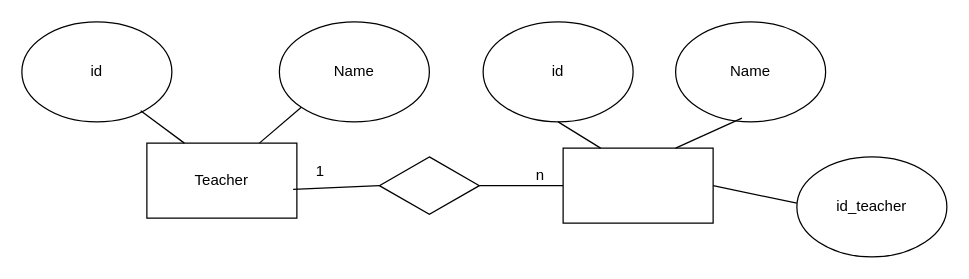
This 969x279 diagram has some shape labels left out. Here are the shapes that lost their labels. From the top down, the centre of each, then its label:
point 428,185: have
point 637,185: Student
